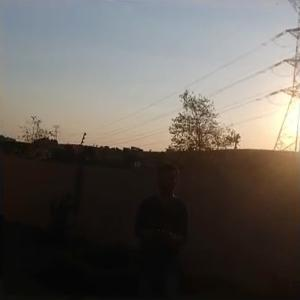follow: (131, 156, 193, 299)
